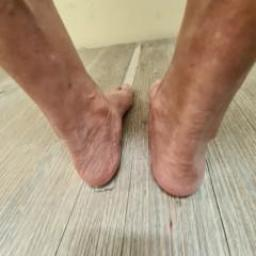Back View -Both Feet-: (5, 64, 252, 206)
